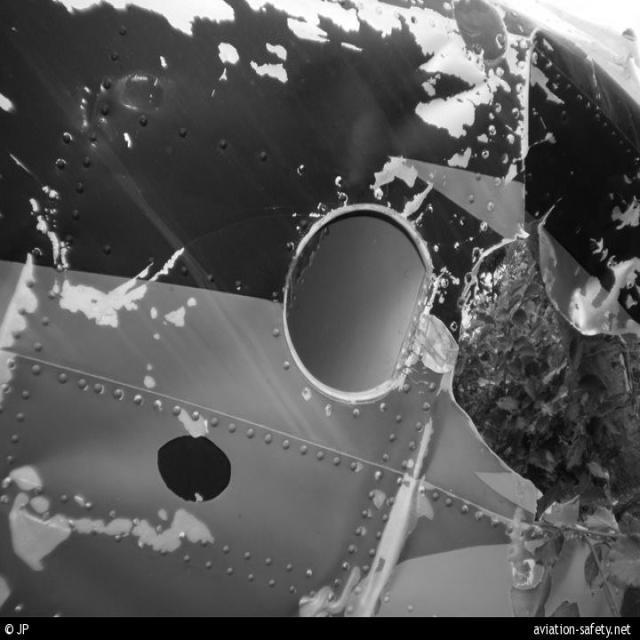dent: (302, 56, 422, 187), (9, 413, 163, 498)
